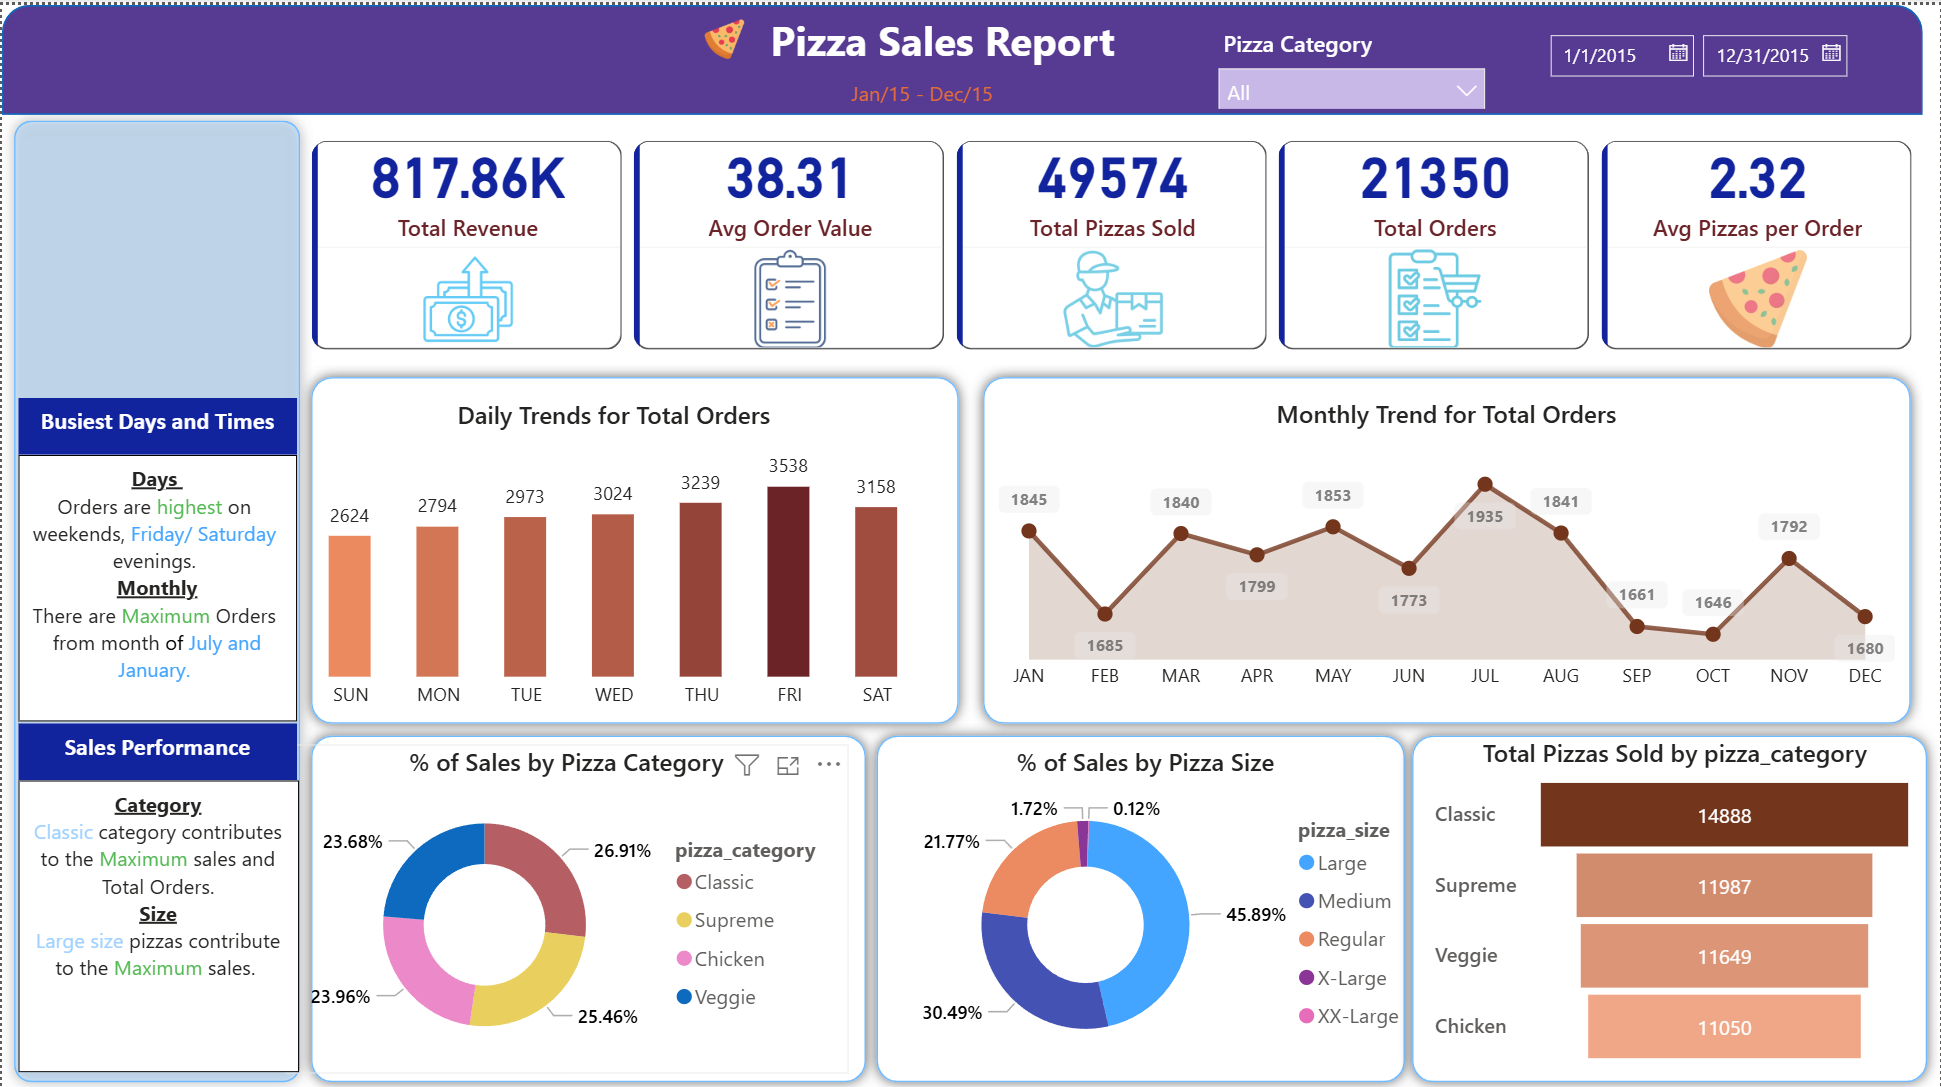

The page's visual inventory and layout, read from the dashboard file:
{"tool":"powerbi","page":{"name":"Page 1","canvas":[1280,720],"ordinal":0},"visuals":[{"type":"cardVisual","fields":{"Data":["pizza_db pizza_sales.Total Revenue","pizza_db pizza_sales.Avg Order Value","pizza_db pizza_sales.Total Pizzas Sold","pizza_db pizza_sales.Total Orders","pizza_db pizza_sales.Avg Pizzas per Order"]},"box":[187.5,72.5,1092.5,172.5],"z":0},{"type":"shape","box":[0,68.8,205,651.2],"z":1000},{"type":"shape","box":[0,0,1268.8,72.5],"z":2000},{"type":"textbox","box":[448.8,0,345,50],"z":3000},{"type":"textbox","box":[541.2,43.8,133.8,28.8],"z":4000},{"type":"image","box":[448.8,8.8,56.2,27.5],"z":5000},{"type":"shape","box":[196.2,237.5,443.8,245],"z":6000},{"type":"clusteredColumnChart","title":"Daily Trends for Total Orders","fields":{"Category":["pizza_db pizza_sales.Ordey Day"],"Y":["pizza_db pizza_sales.Total Orders"]},"box":[187.5,260,433.8,213.8],"z":7000},{"type":"shape","box":[640,237.5,628.8,245],"z":8000},{"type":"textbox","box":[11.2,260,183.8,37.5],"z":9000},{"type":"areaChart","title":"Monthly Trend for Total Orders","fields":{"Category":["pizza_db pizza_sales.Ordey Month"],"Y":["pizza_db pizza_sales.Total Orders"]},"box":[652.5,258.8,602.5,202.5],"z":10000},{"type":"shape","box":[196.2,475,382.5,245],"z":11000},{"type":"shape","box":[570,475,365,245],"z":12000},{"type":"shape","box":[923.8,475,356.2,245],"z":13000},{"type":"donutChart","title":"% of Sales by Pizza Category","fields":{"Category":["pizza_db pizza_sales.pizza_category"],"Y":["pizza_db pizza_sales.Total Revenue"]},"box":[187.5,488.8,371.2,216.2],"z":14000},{"type":"donutChart","title":"% of Sales by Pizza Size","fields":{"Y":["pizza_db pizza_sales.Total Revenue"],"Category":["pizza_db pizza_sales.pizza_size"]},"box":[570,488.8,371.2,216.2],"z":15000},{"type":"funnel","fields":{"Category":["pizza_db pizza_sales.pizza_category"],"Y":["pizza_db pizza_sales.Total Pizzas Sold"]},"box":[941.2,482.5,327.5,222.5],"z":16000},{"type":"textbox","box":[11.2,297.5,183.8,176.2],"z":17000},{"type":"textbox","box":[11.2,475,183.8,37.5],"z":18000},{"type":"textbox","box":[11.2,512.5,185,192.5],"z":19000},{"type":"slicer","fields":{"Values":["pizza_db pizza_sales.order_date"]},"box":[1010,10,235,58.8],"z":20000},{"type":"slicer","fields":{"Values":["pizza_db pizza_sales.pizza_category"]},"box":[793.8,10,196.2,58.8],"z":21000}]}

Visuals, with their boxes in screenshot pixels (x1, y1, x2, y2), scaled from the page's 1280x720 canvas onto the 1941x1087 screenshot:
cardVisual - pizza_db pizza_sales.Total Revenue x pizza_db pizza_sales.Avg Order Value: bbox(284, 109, 1940, 370)
shape: bbox(0, 104, 311, 1086)
shape: bbox(0, 0, 1924, 109)
textbox: bbox(681, 0, 1204, 75)
textbox: bbox(821, 66, 1024, 110)
image: bbox(681, 13, 766, 55)
shape: bbox(298, 359, 970, 728)
"Daily Trends for Total Orders" clusteredColumnChart: bbox(284, 393, 942, 715)
shape: bbox(970, 359, 1924, 728)
textbox: bbox(17, 393, 296, 449)
"Monthly Trend for Total Orders" areaChart: bbox(989, 391, 1903, 696)
shape: bbox(298, 717, 878, 1086)
shape: bbox(864, 717, 1418, 1086)
shape: bbox(1401, 717, 1940, 1086)
"% of Sales by Pizza Category" donutChart: bbox(284, 738, 847, 1064)
"% of Sales by Pizza Size" donutChart: bbox(864, 738, 1427, 1064)
funnel - pizza_db pizza_sales.pizza_category x pizza_db pizza_sales.Total Pizzas Sold: bbox(1427, 728, 1924, 1064)
textbox: bbox(17, 449, 296, 715)
textbox: bbox(17, 717, 296, 774)
textbox: bbox(17, 774, 298, 1064)
slicer - pizza_db pizza_sales.order_date: bbox(1532, 15, 1888, 104)
slicer - pizza_db pizza_sales.pizza_category: bbox(1204, 15, 1501, 104)
